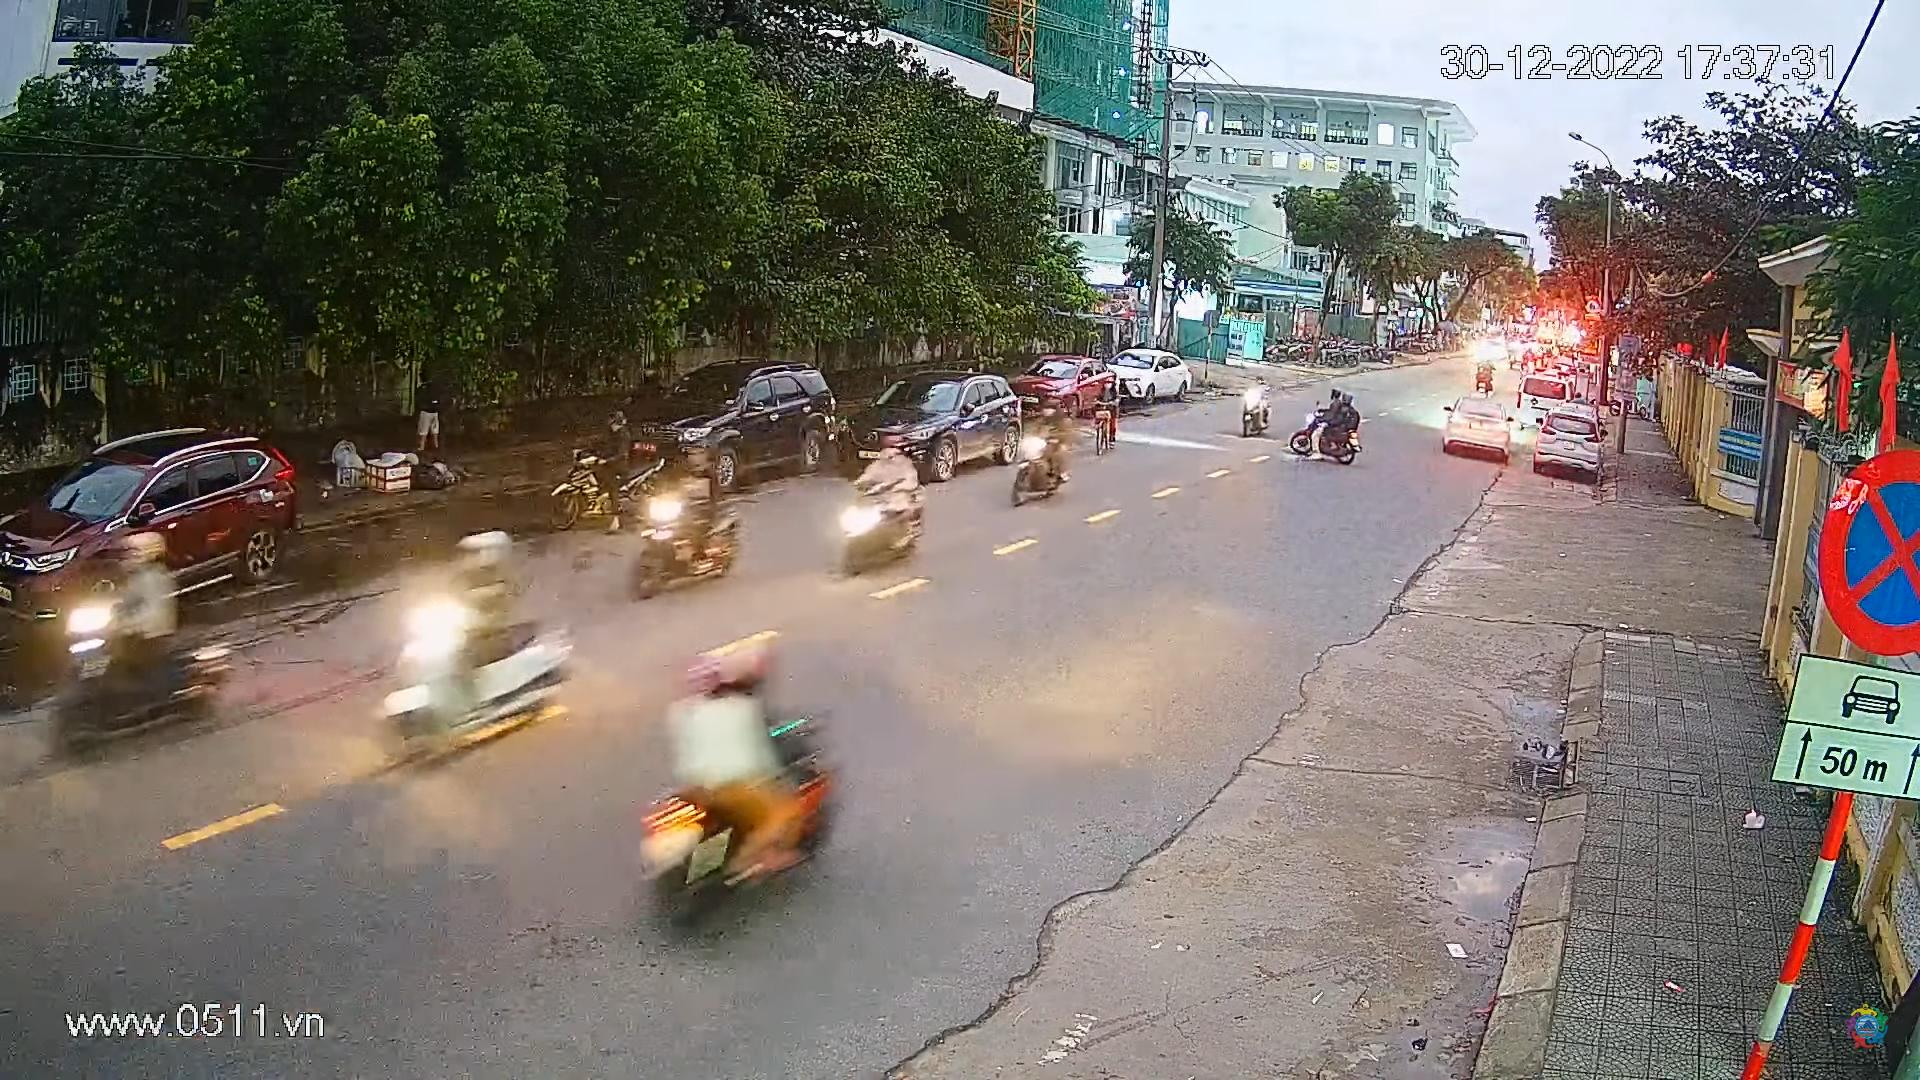bicycle: (1083, 377, 1127, 458)
car: (0, 419, 306, 624), (599, 349, 843, 506), (827, 357, 1026, 491), (1027, 349, 1113, 425), (1528, 407, 1606, 483), (1432, 393, 1516, 459), (1108, 342, 1193, 400), (1518, 364, 1573, 435)
motorcycle: (621, 616, 876, 951), (355, 522, 585, 808), (40, 531, 236, 771), (621, 439, 754, 605), (825, 426, 949, 582), (998, 401, 1083, 513), (1282, 389, 1369, 471), (1237, 371, 1278, 438)
